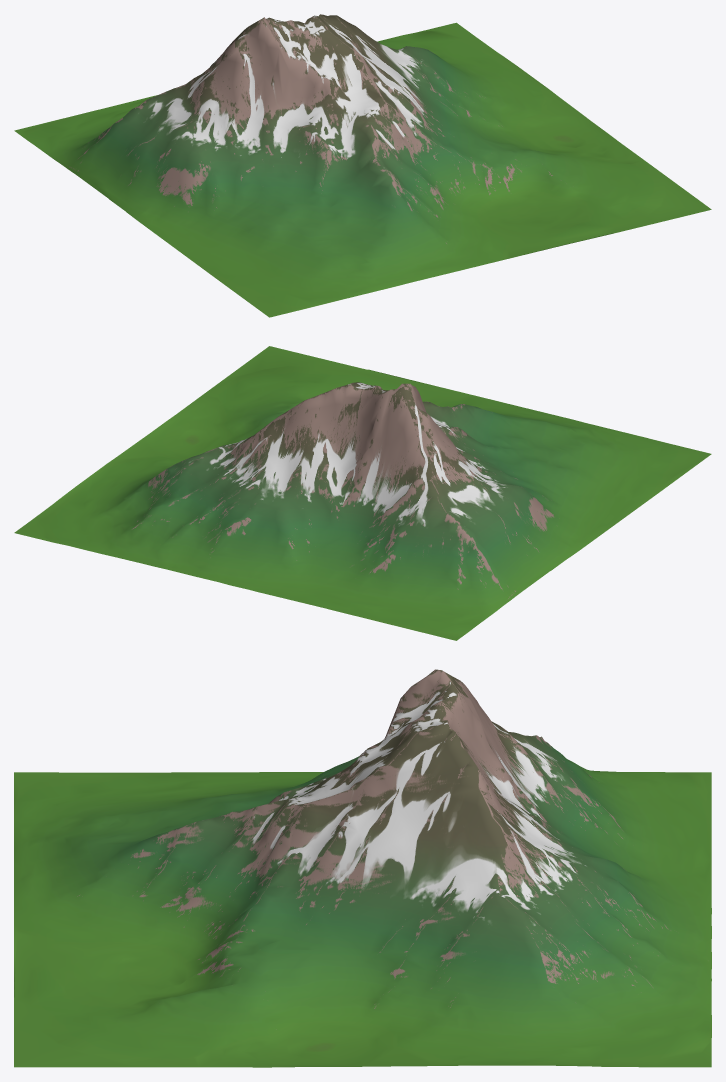
3 renders of one model, top to bottom at view 1: azimuth 30°, elevation 25°; view 2: azimuth 150°, elevation 25°; view 3: azimuth 270°, elevation 25°, orthographic. The views are drawn at different scales.
Parts seen in each view (by area): view 1: submesh_0; view 2: submesh_0; view 3: submesh_0.
Boxes of the visible parts, x1,y1,x2,y2 form: submesh_0: (14,14,711,317); submesh_0: (14,346,711,640); submesh_0: (14,669,711,1067).
Size of the model in its own units: 1052 by 344 by 1052.
1 material, 1 textured.
